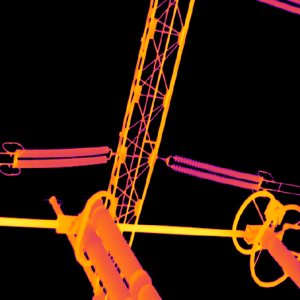insulator: (169, 154, 262, 190), (13, 144, 109, 169)
